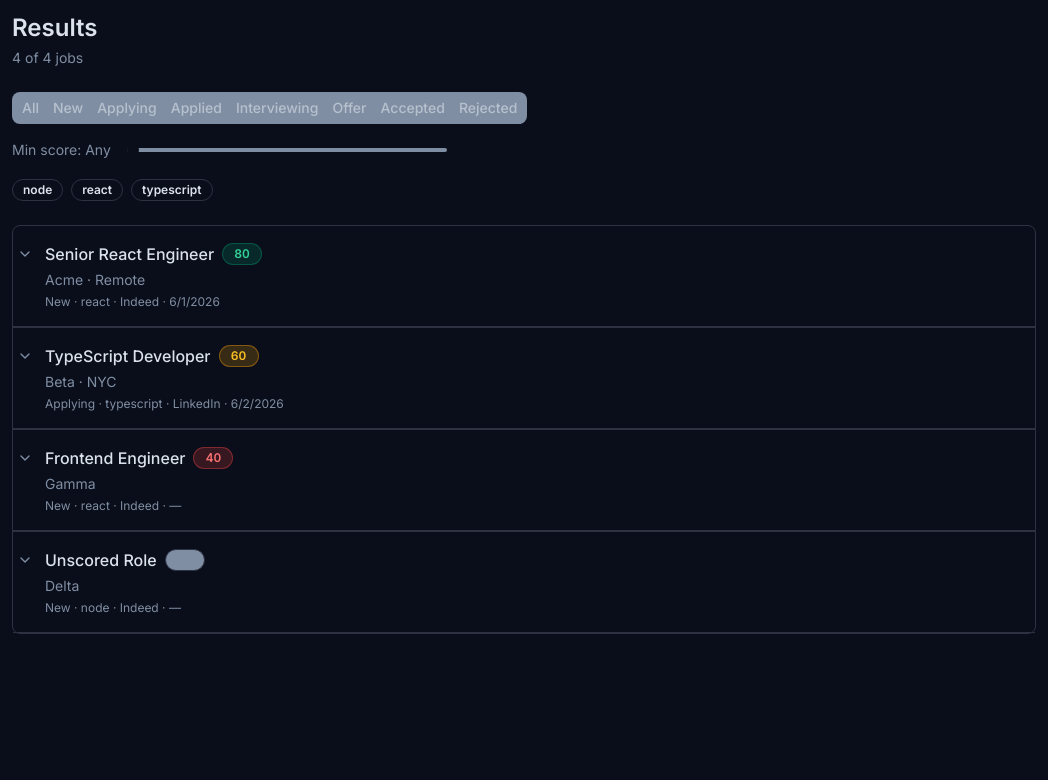
Test: ResultsScreen › filters jobs by status tab
Check: the heading "TypeScript Developer" is shown, box [45,344,211,368]
Click the tab "Applying".
click(127, 108)  # box [90,96,164,120]
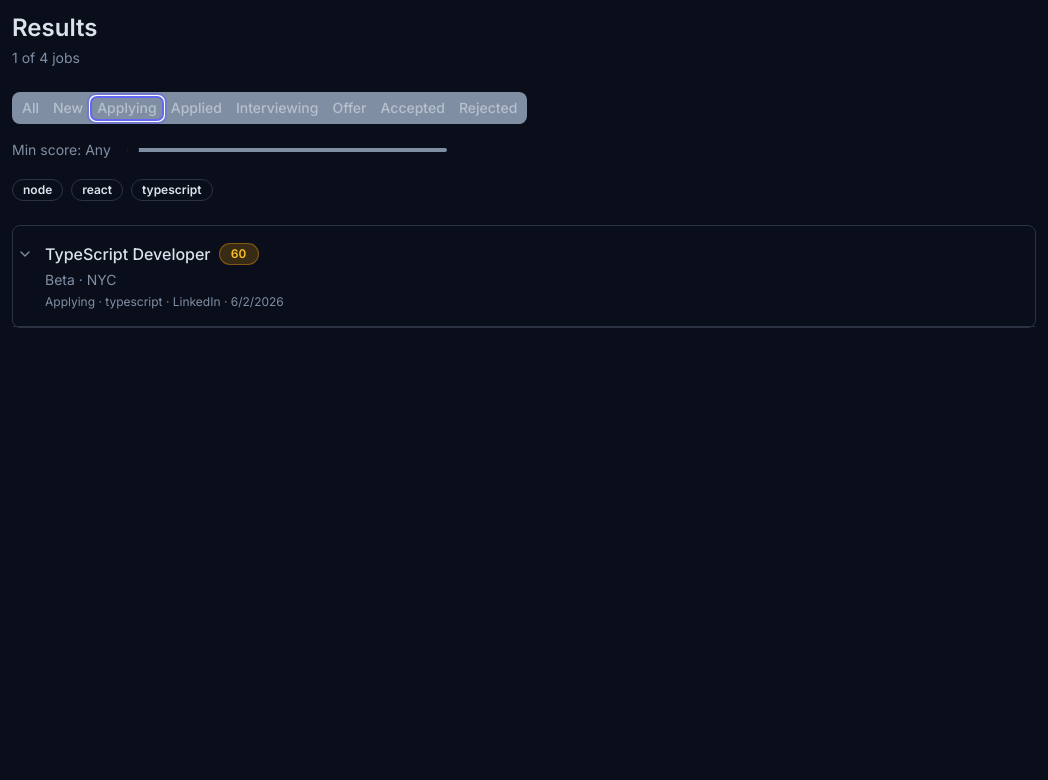
Check: the heading "TypeScript Developer" is shown, box [45,242,211,266]
Check: the text "1 of 4 jobs" is shown, box [12,49,80,66]
Check: the button "Senior React Engineer" is gone
